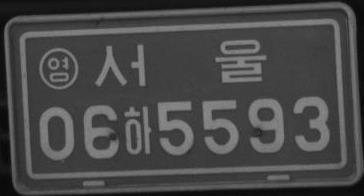0: (37, 106, 75, 161)
3: (292, 95, 330, 152)
5: (156, 99, 195, 157), (201, 98, 239, 155)
6: (82, 103, 119, 160)
9: (248, 97, 284, 154)
서울_D: (95, 38, 266, 87)
영: (38, 46, 79, 90)
하: (123, 105, 152, 154)
